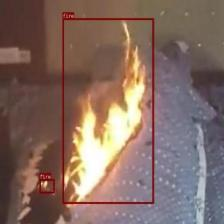fire: (62, 18, 154, 203), (40, 179, 54, 193)
